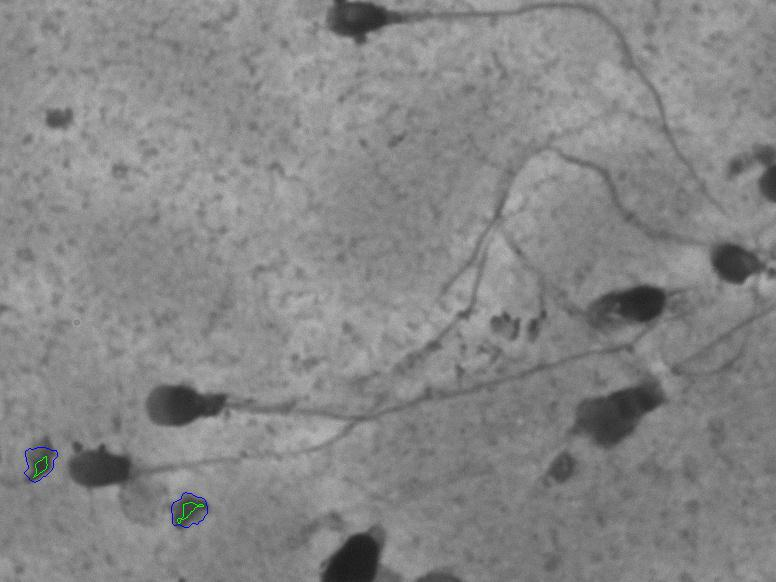Abnormal: (136, 304, 548, 450), (39, 425, 323, 538), (581, 252, 671, 369), (699, 214, 770, 317)
